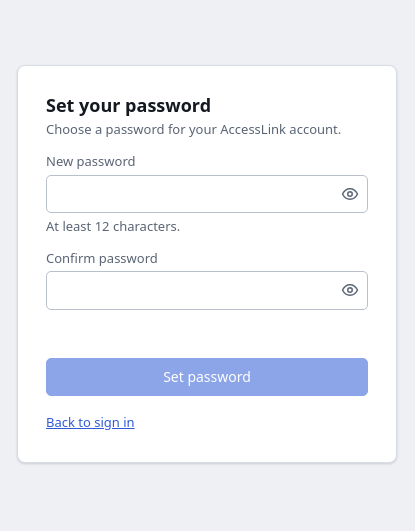
it: redeeming an invitation or reset link › treats an unknown link as one that may simply have been superseded
Type "a-long-enough-password" into the password field labelled "New password" at (207, 194), box [46,175,368,213]
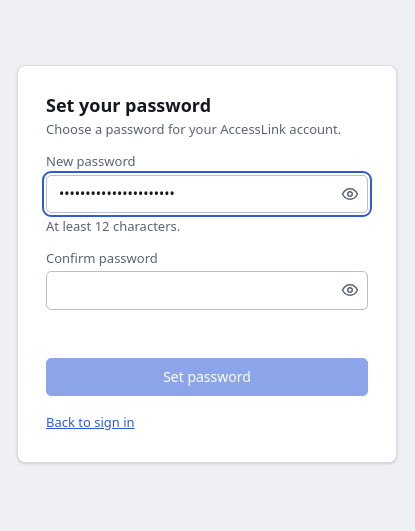
Type "a-long-enough-password" into the password field labelled "Confirm password" at (207, 290), box [46,271,368,310]
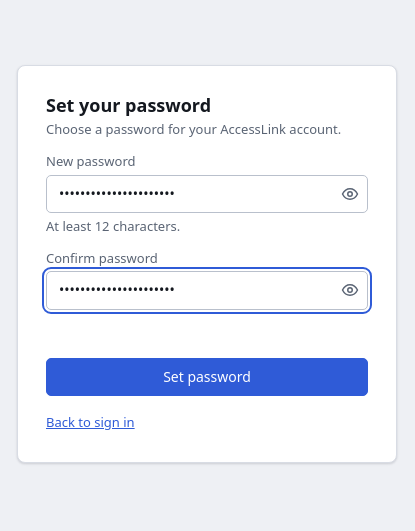
Click the button "Set password" at (207, 377), box [46,358,368,396]
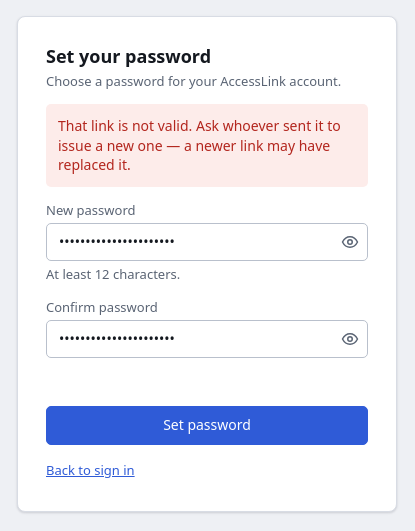
Expected: the message shows "newer link may have replaced it", [58,116,341,174]
